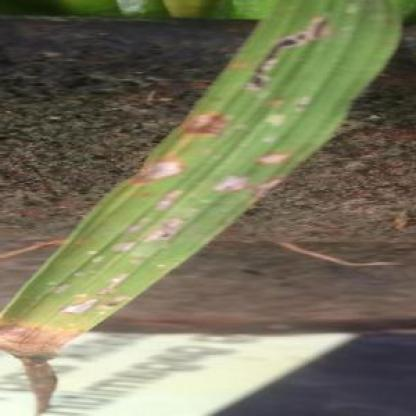Rice blast: (237, 1, 345, 106), (177, 103, 237, 150), (240, 145, 305, 180), (209, 172, 252, 213), (143, 156, 183, 191)
